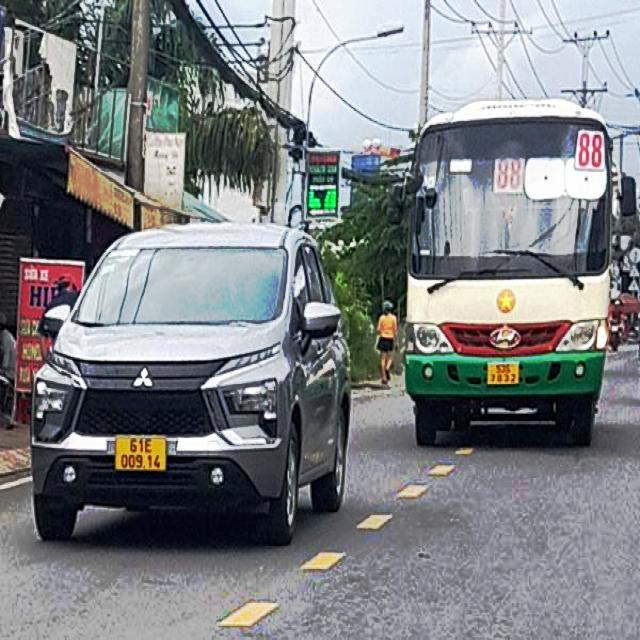license_plate: (115, 435, 167, 472)
